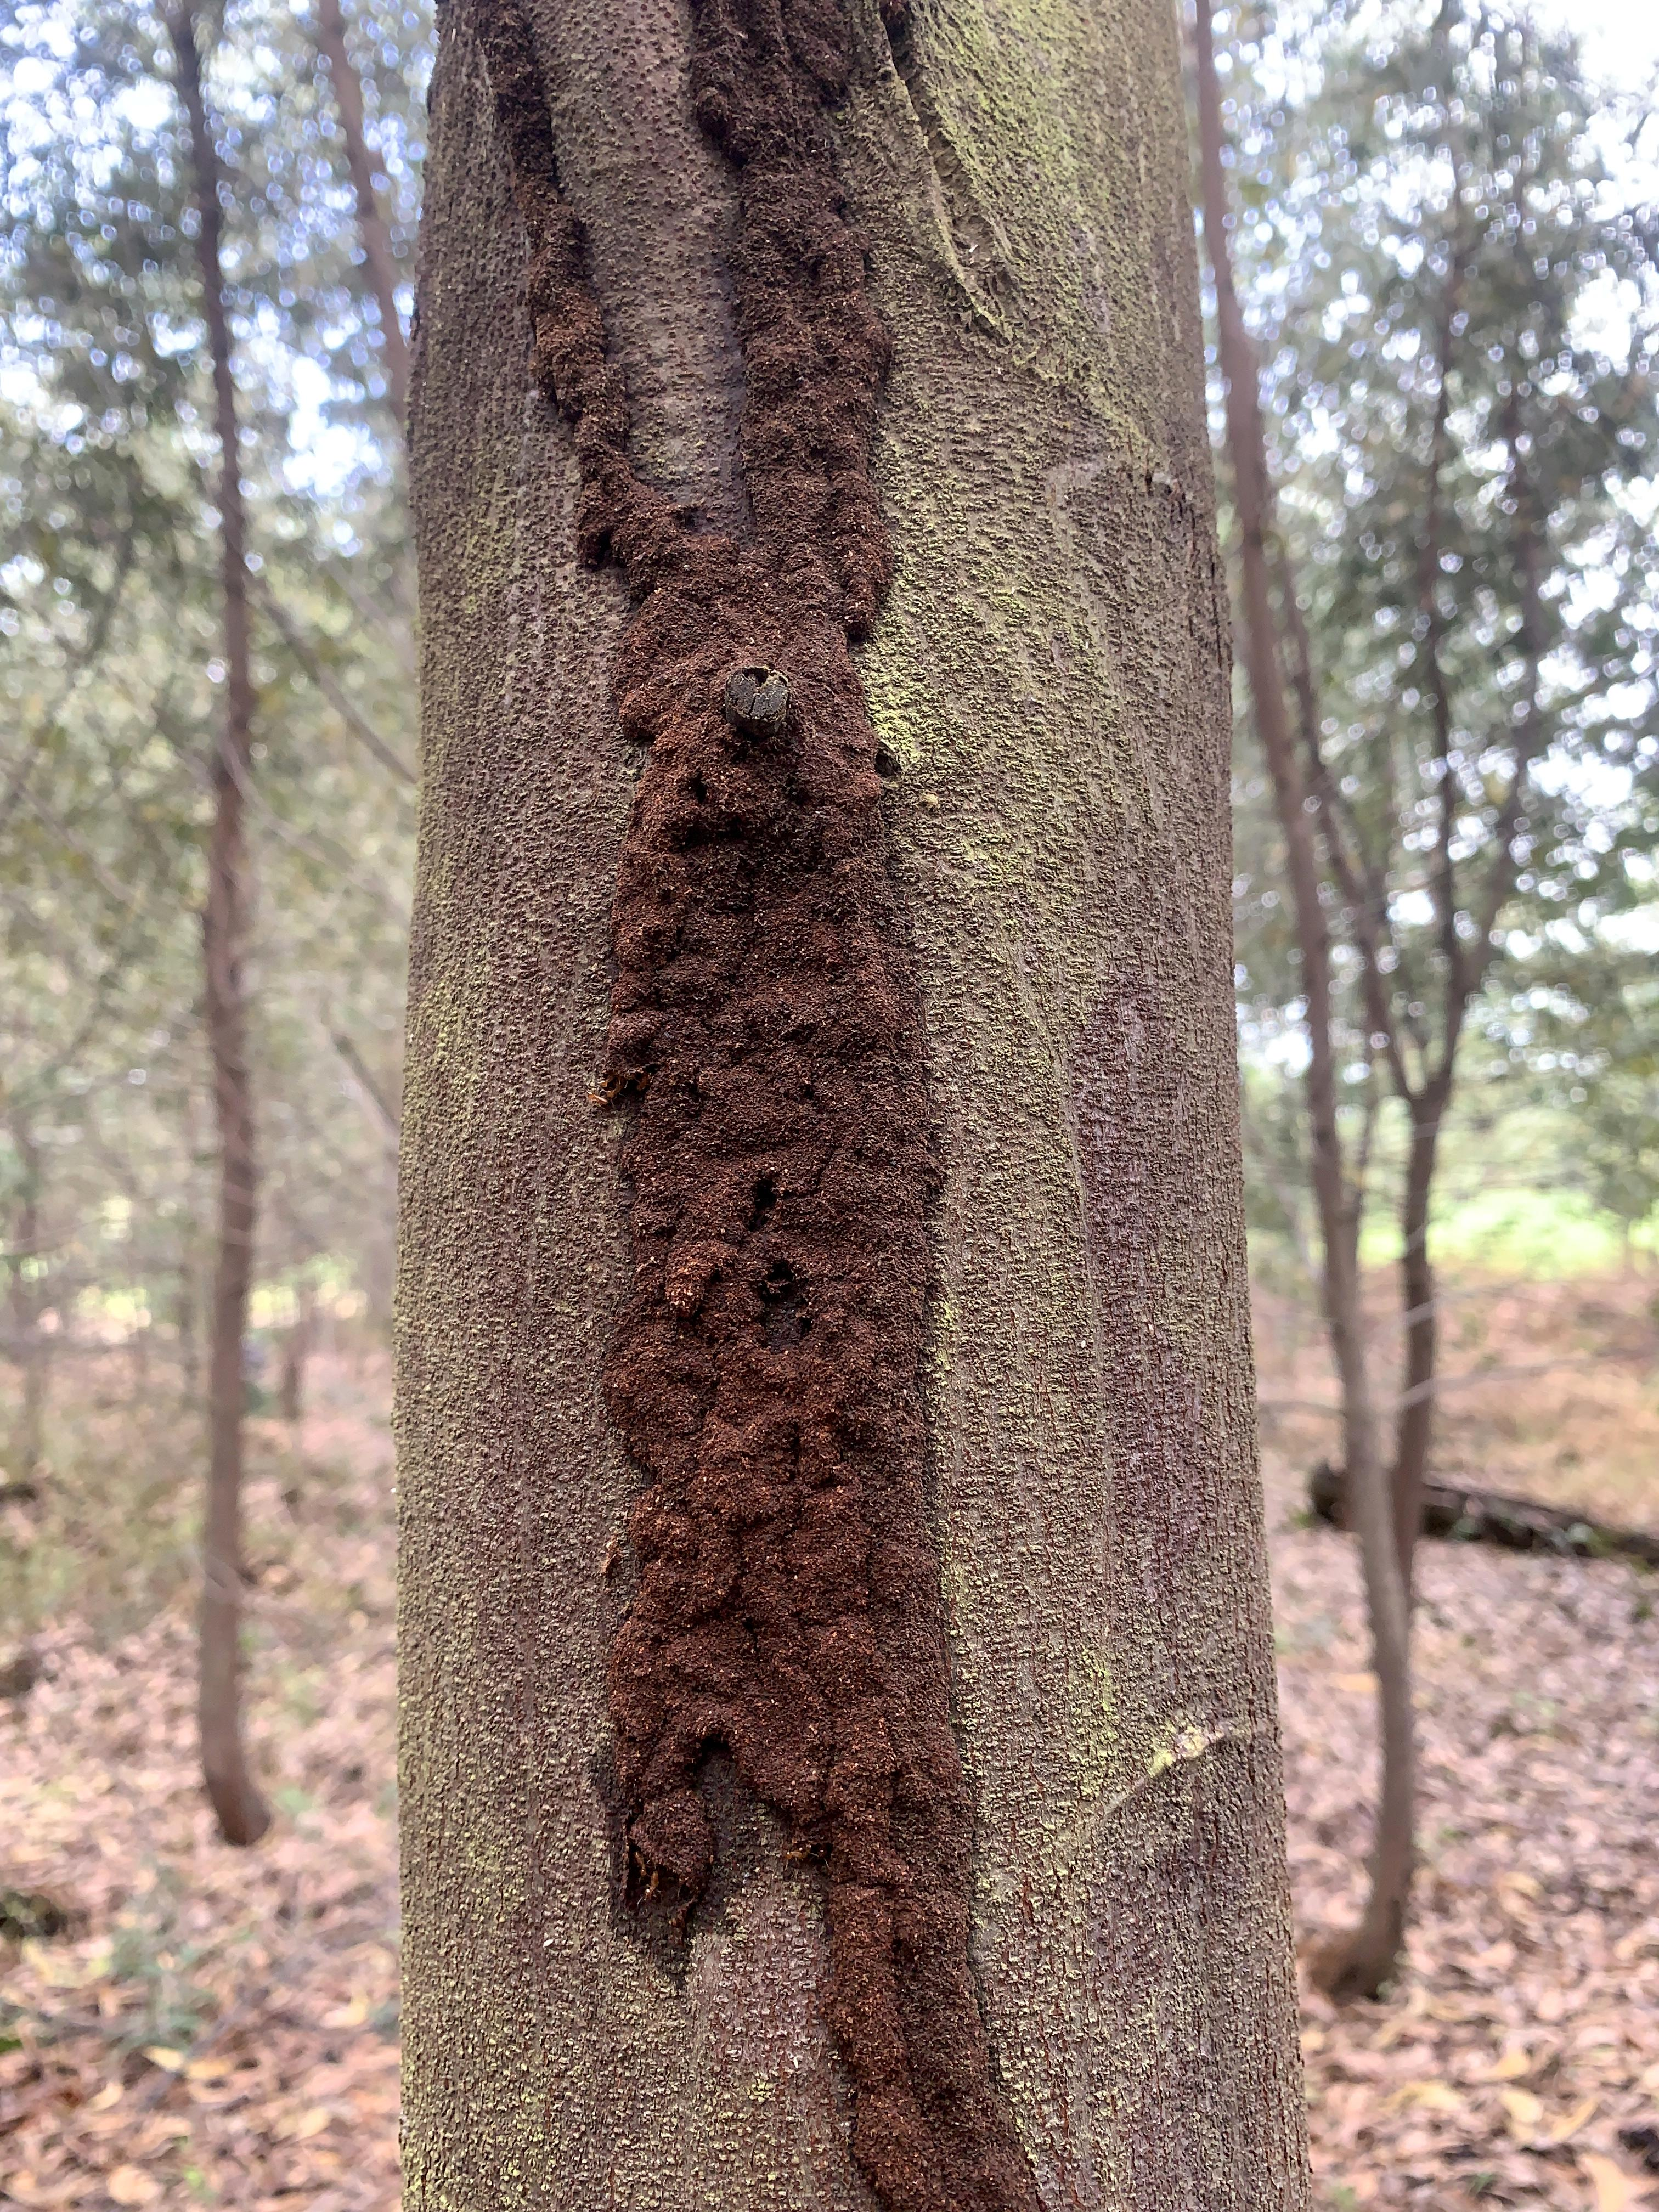Termite - Nest: (518, 0, 1087, 2212)
